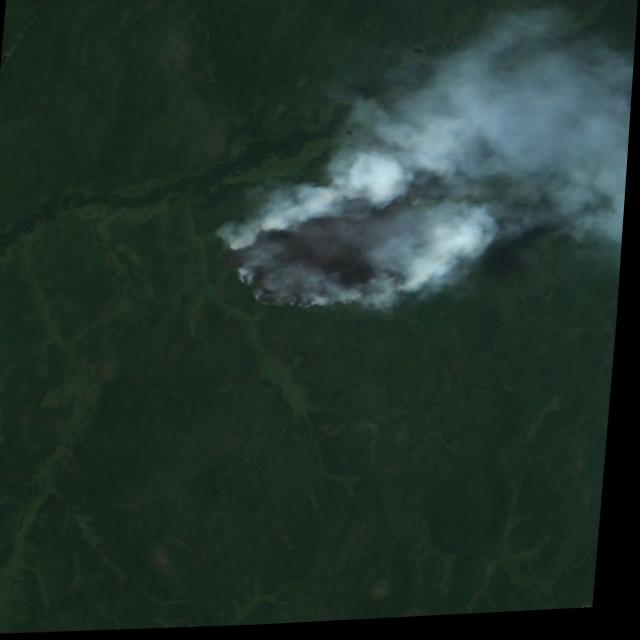fire: (223, 179, 478, 324)
